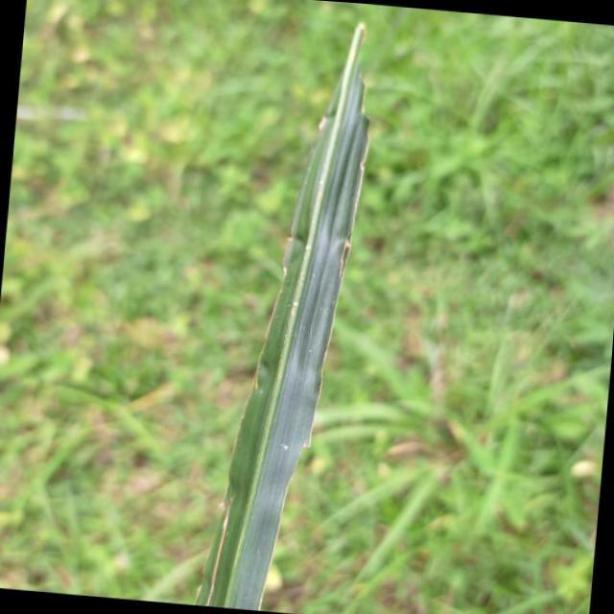Boron: (204, 17, 388, 614)
